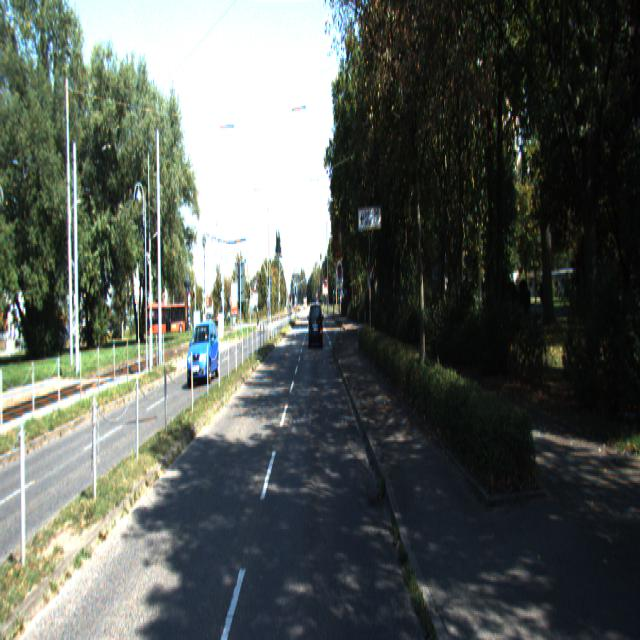Car: (187, 319, 220, 386), (309, 304, 323, 352)
